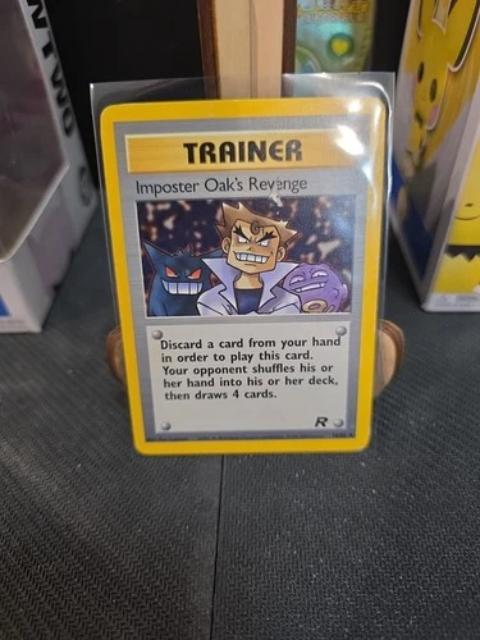Card: (95, 92, 394, 459)
Name: (127, 170, 317, 202)
